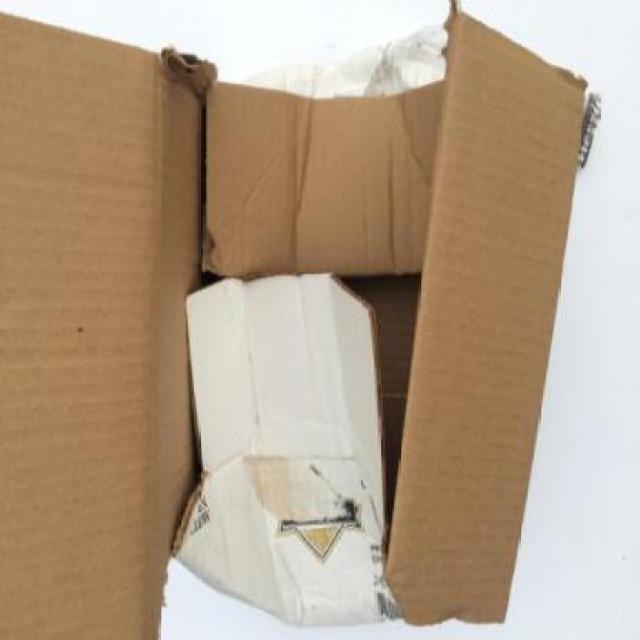box: (2, 5, 606, 640)
